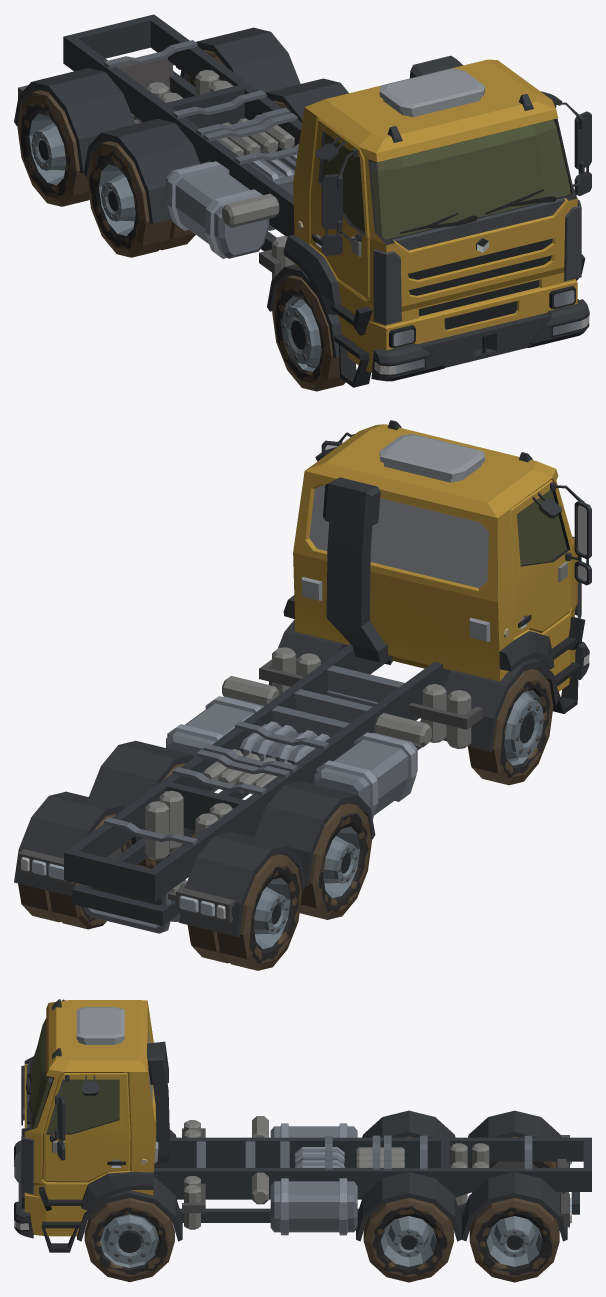
File: SM_Veh_Truck_01.fbx
3 views of the same model, one above another, from view 1: azimuth 30°, elevation 25°; view 2: azimuth 150°, elevation 25°; view 3: azimuth 270°, elevation 25° (orthographic). The views are drawn at different scales.
Parts seen in each view (by area): view 1: SM_Veh_Truck_01, SM_Veh_Truck_01_Glass, SM_Veh_Truck_01_Wheel_mr, SM_Veh_Truck_01_Wheel_rr, SM_Veh_Truck_01_Wheel_fr; view 2: SM_Veh_Truck_01, SM_Veh_Truck_01_Wheel_rr, SM_Veh_Truck_01_Wheel_fr, SM_Veh_Truck_01_Wheel_mr, SM_Veh_Truck_01_Glass, SM_Veh_Truck_01_Wheel_rl; view 3: SM_Veh_Truck_01, SM_Veh_Truck_01_Wheel_rl, SM_Veh_Truck_01_Wheel_ml, SM_Veh_Truck_01_Wheel_fl, SM_Veh_Truck_01_Glass, SM_Veh_Truck_01_Wheel_rr.
Part boxes in pixels (bbox=[...]): SM_Veh_Truck_01: bbox=[14, 14, 591, 387]; SM_Veh_Truck_01_Glass: bbox=[322, 119, 570, 239]; SM_Veh_Truck_01_Wheel_mr: bbox=[87, 141, 195, 257]; SM_Veh_Truck_01_Wheel_rr: bbox=[17, 90, 89, 206]; SM_Veh_Truck_01_Wheel_fr: bbox=[272, 275, 355, 391]; SM_Veh_Truck_01: bbox=[14, 420, 591, 936]; SM_Veh_Truck_01_Wheel_rr: bbox=[187, 854, 302, 970]; SM_Veh_Truck_01_Wheel_fr: bbox=[467, 669, 553, 785]; SM_Veh_Truck_01_Wheel_mr: bbox=[299, 803, 371, 919]; SM_Veh_Truck_01_Glass: bbox=[517, 490, 566, 565]; SM_Veh_Truck_01_Wheel_rl: bbox=[18, 814, 131, 929]; SM_Veh_Truck_01: bbox=[14, 999, 591, 1252]; SM_Veh_Truck_01_Wheel_rl: bbox=[469, 1198, 559, 1282]; SM_Veh_Truck_01_Wheel_ml: bbox=[363, 1198, 453, 1282]; SM_Veh_Truck_01_Wheel_fl: bbox=[84, 1198, 174, 1282]; SM_Veh_Truck_01_Glass: bbox=[31, 1018, 119, 1133]; SM_Veh_Truck_01_Wheel_rr: bbox=[470, 1136, 556, 1167].
Bounding box in the file's own units: 351 × 358 × 857.
2 materials, 2 textured.
